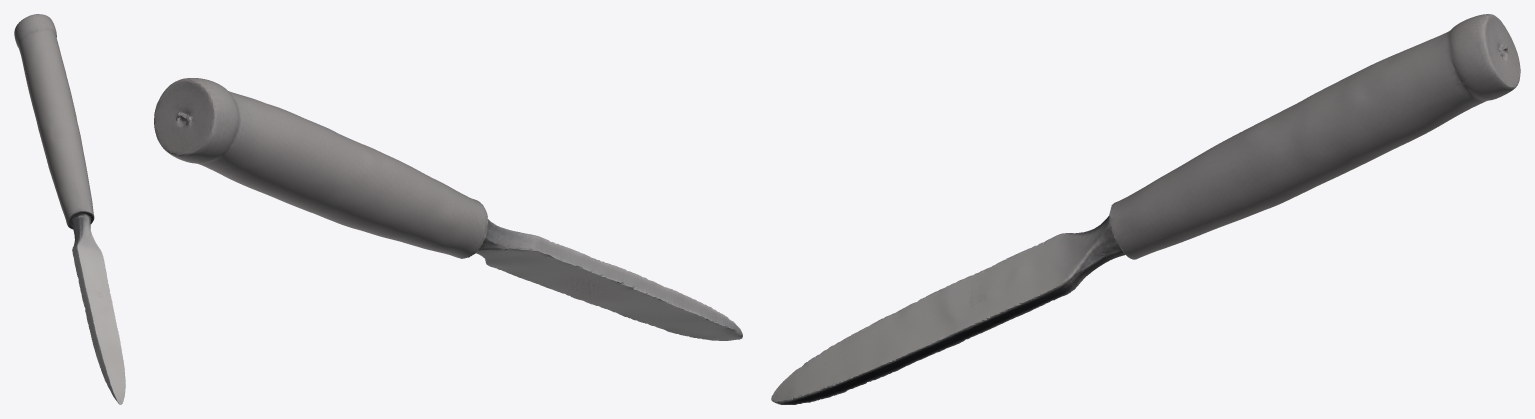
Rendered from surgical_scalpel.glb.
3 renders of one model, left to right at view 1: azimuth 30°, elevation 25°; view 2: azimuth 150°, elevation 25°; view 3: azimuth 270°, elevation 25°, orthographic. The views are drawn at different scales.
Visible parts, largest first — view 1: model; view 2: model; view 3: model.
Boxes of the visible parts, <box> form: model: <box>14,14,125,404</box>; model: <box>154,78,742,340</box>; model: <box>771,14,1520,404</box>.
Bounding box in the file's own units: 0.6776 × 1.33 × 1.9.
1 material, 1 textured.
